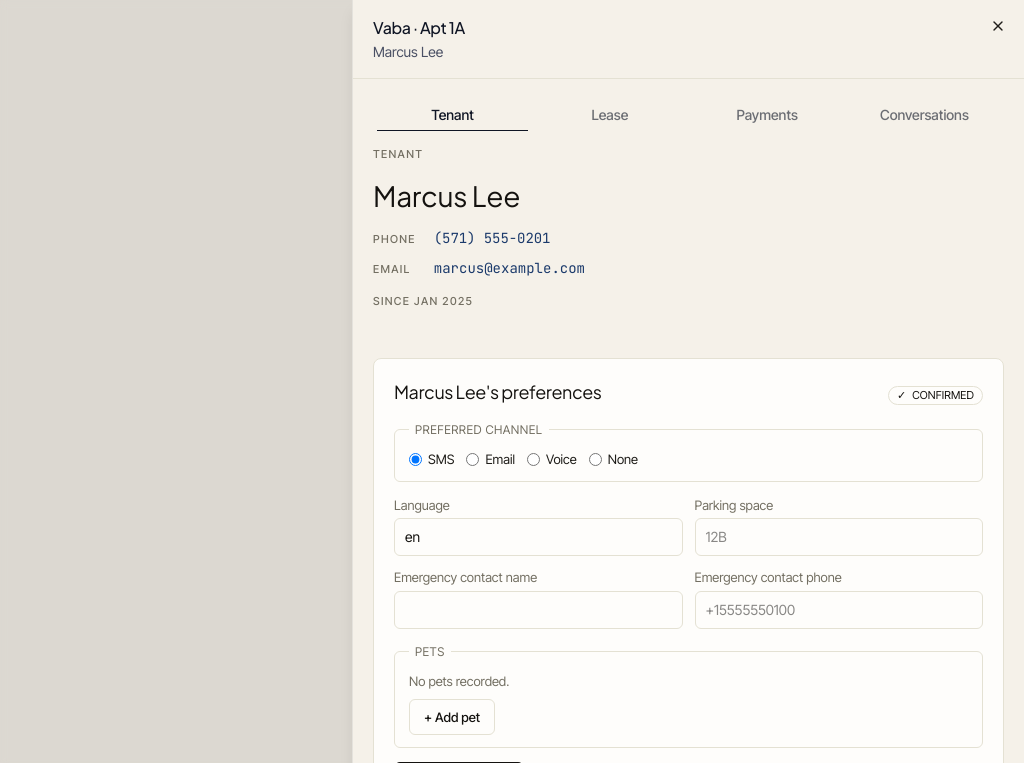
Scenario: UnitDetailDrawer › open with full detail › switches to Conversations tab and renders the conversations rail
Click the tab with test id "unit-detail-tab-conversations": (924, 115) [848,102,1001,128]
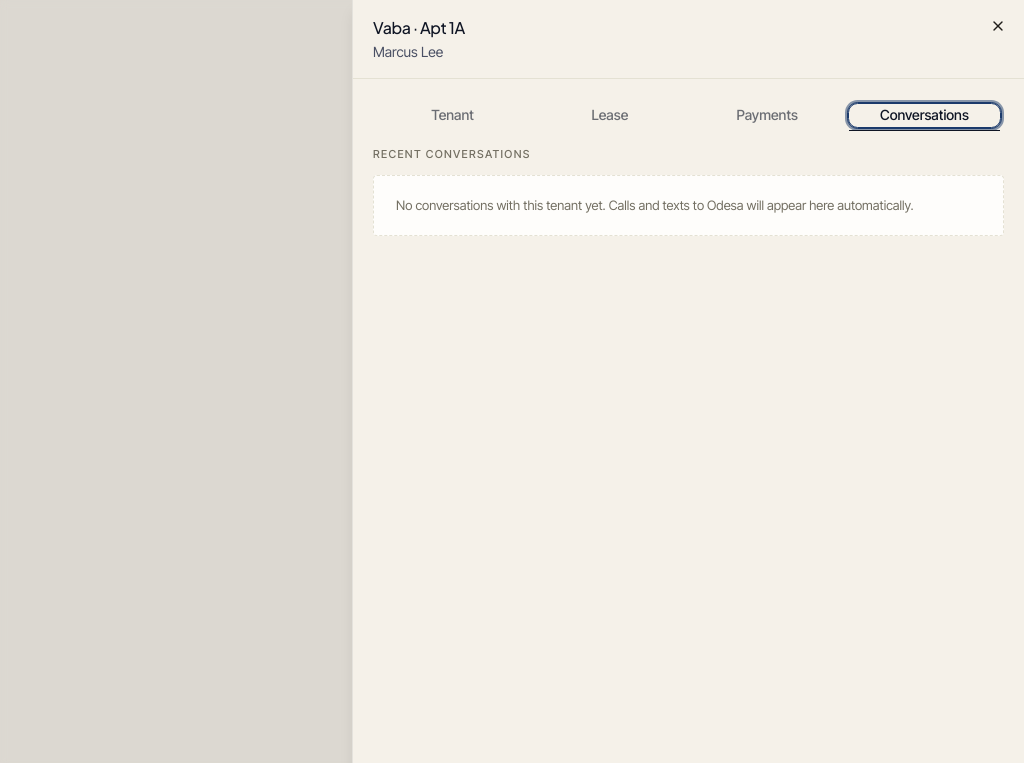
Result: the element with test id "unit-detail-conversations" is shown at [373,147,1004,236]
